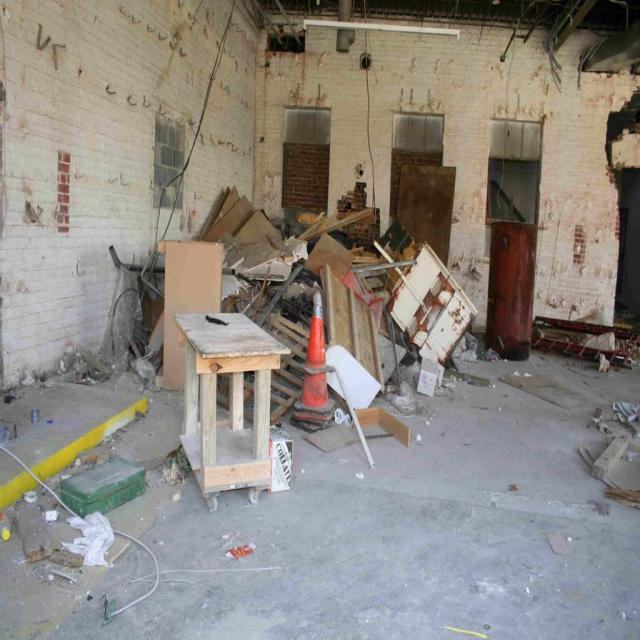table: (173, 310, 289, 501)
